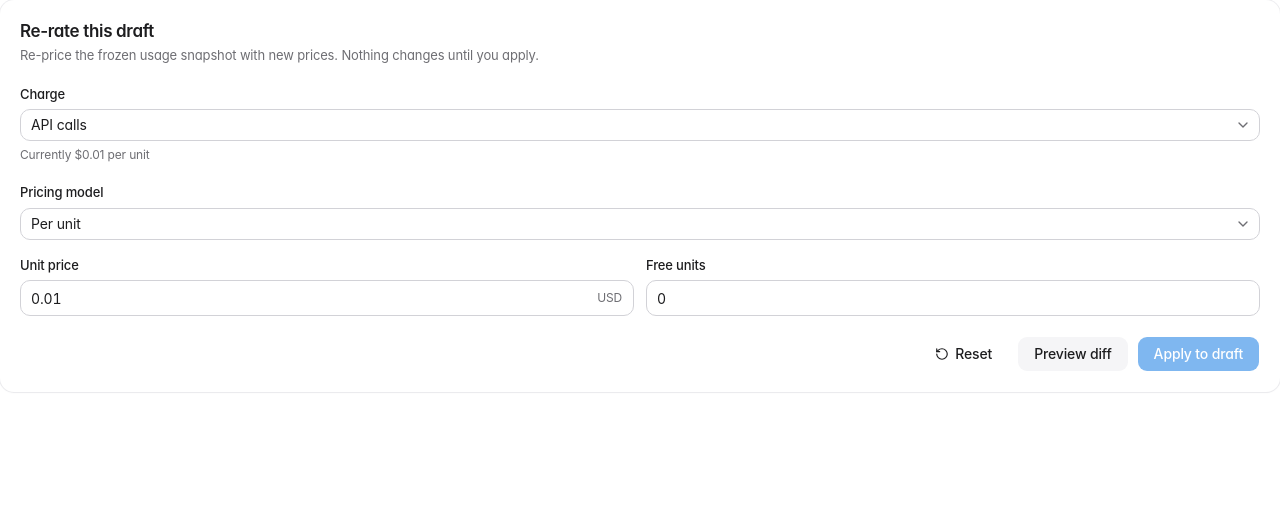
Test: ReratePanel › previews a diff for the edited usage charge before anything is applied
The width and height of the screenshot is (1280, 524).
Expected: the text "Currently $0.01 per unit" is shown, [20,147,150,162]
Expected: the button "Apply to draft" is disabled, [1137,336,1260,372]
Replace the text in the field labelled "Unit price" with "0.005" at (327, 298), box [20,280,634,316]
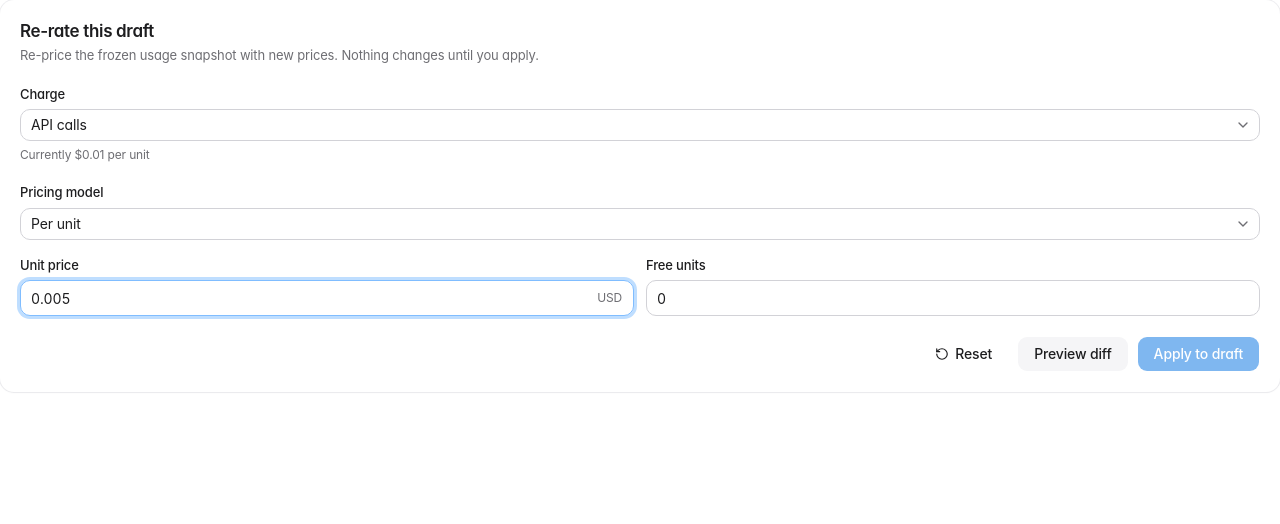
Click the button "Preview diff".
click(1073, 354)  # box [1017,336,1129,372]
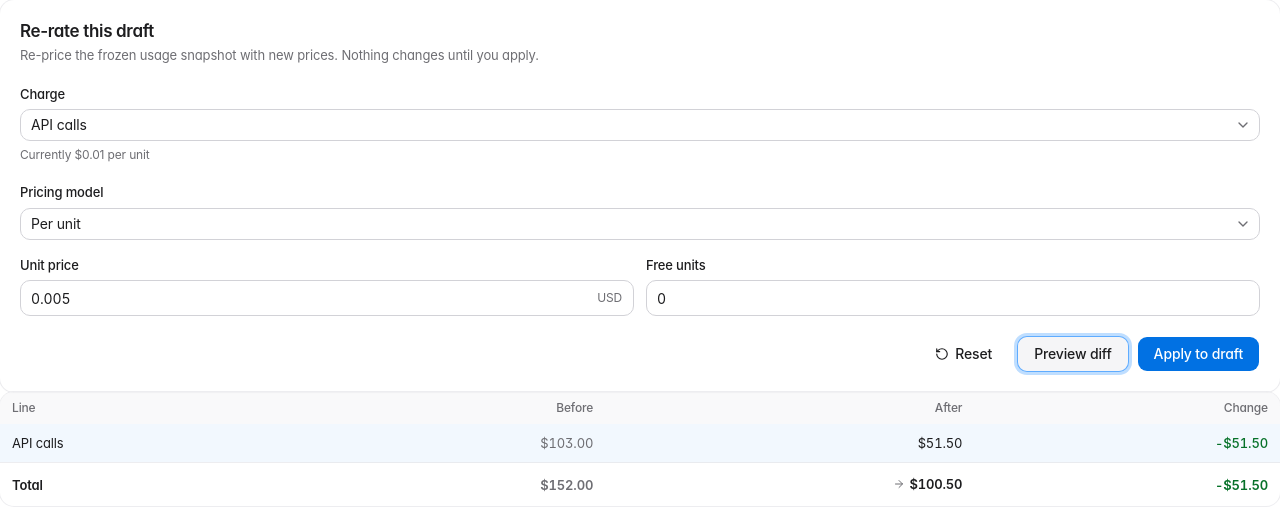
Result: the text "-$51.50" in the row of "Total" is shown at [1215,477,1268,493]
Result: the button "Apply to draft" is enabled at [1137,336,1260,372]
